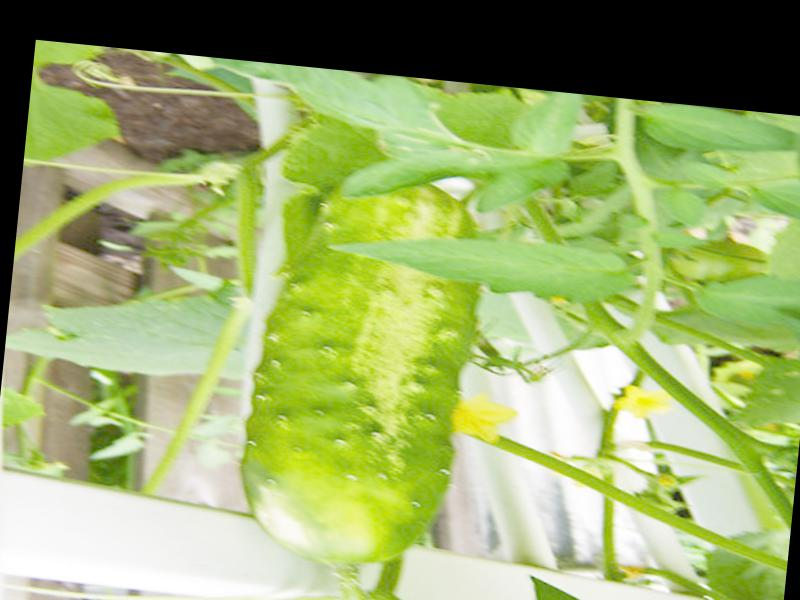Cucumber: (234, 172, 480, 575)
